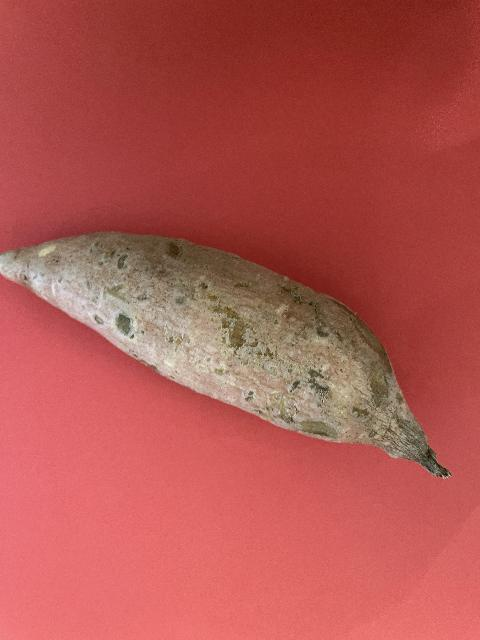sweetpotato: (0, 229, 456, 485)
